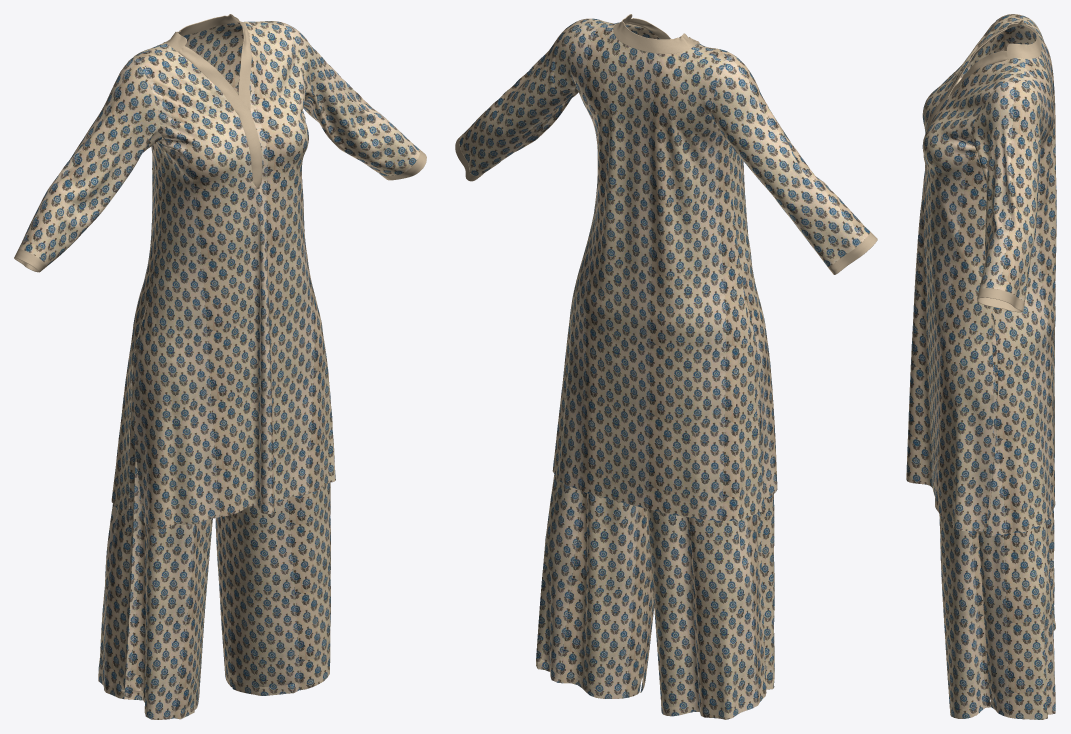
Rendered from kurti.glb.
3 views of the same model, side by side, from view 1: azimuth 30°, elevation 25°; view 2: azimuth 150°, elevation 25°; view 3: azimuth 270°, elevation 25° (orthographic). The views are drawn at different scales.
Visible parts, largest first — view 1: Outfit; view 2: Outfit; view 3: Outfit.
Boxes of the visible parts, box(x1,y1,x2,y2) form: Outfit: box(14, 14, 426, 719); Outfit: box(455, 14, 877, 719); Outfit: box(906, 14, 1056, 719).
Size of the model in its own units: 0.9545 by 1.49 by 0.3083.
Materials: 3 (3 with a texture image).
